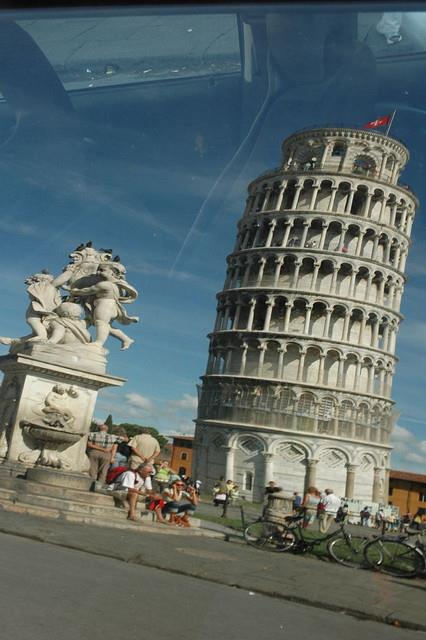Torre_di_Pisa: (188, 124, 422, 504)
